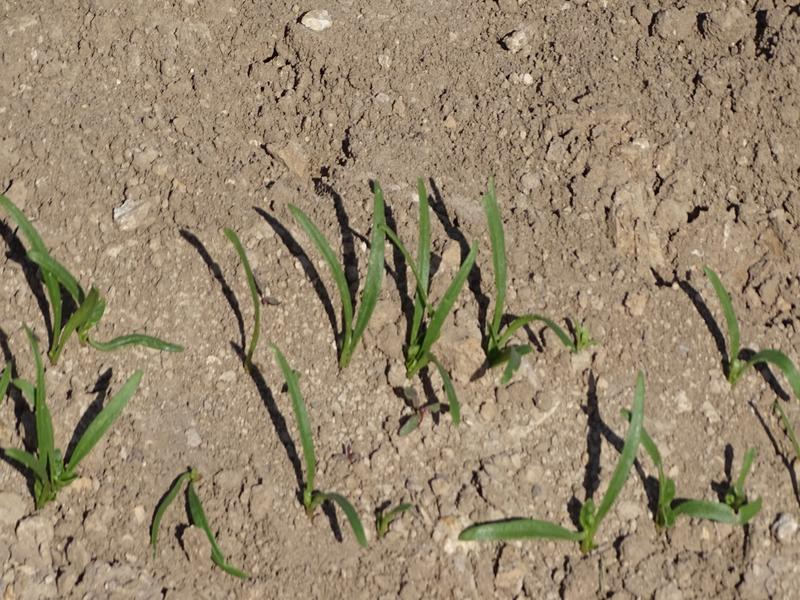Espinaca: (296, 185, 591, 370), (479, 378, 760, 561), (1, 204, 148, 495), (273, 359, 377, 543), (709, 266, 800, 398), (228, 228, 259, 363)
